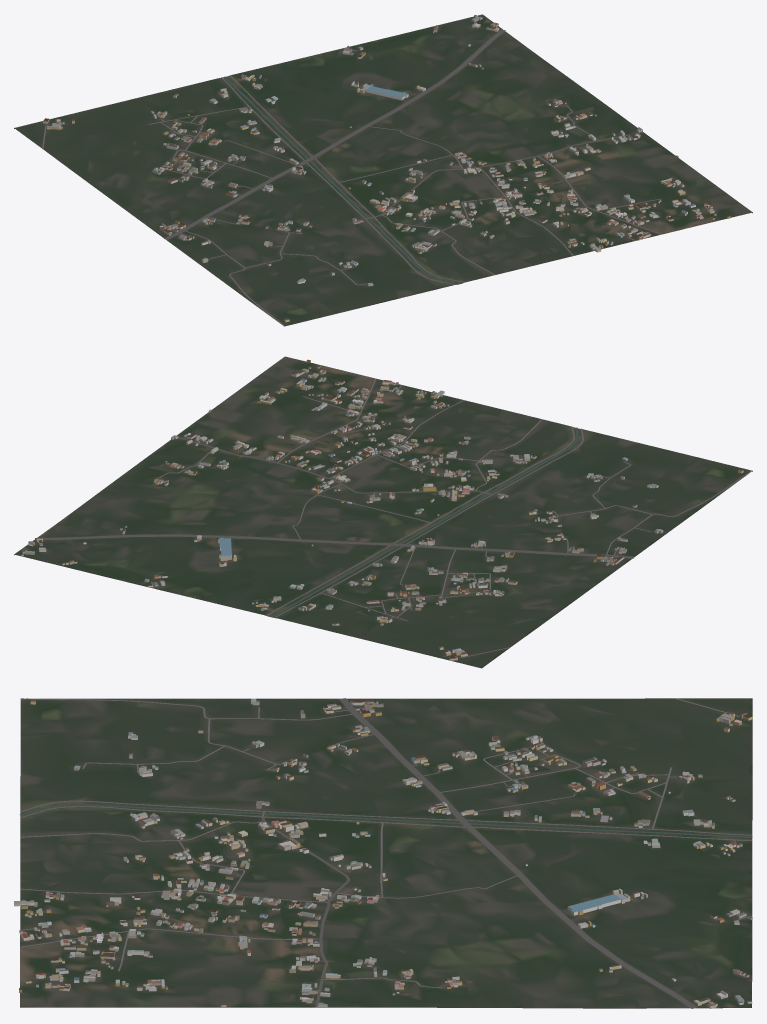
3 renders of one model, top to bottom at view 1: azimuth 30°, elevation 25°; view 2: azimuth 150°, elevation 25°; view 3: azimuth 270°, elevation 25°, orthographic. The views are drawn at different scales.
Visible parts, largest first — view 1: ground, buildings, roads, water; view 2: ground, buildings, roads, water; view 3: ground, buildings, roads, water.
Part boxes in pixels (<box>): ground: <box>14,14,752,326</box>; buildings: <box>42,15,730,322</box>; roads: <box>42,24,661,326</box>; water: <box>224,76,461,283</box>; ground: <box>14,356,752,668</box>; buildings: <box>21,359,743,660</box>; roads: <box>35,378,752,658</box>; water: <box>271,427,578,617</box>; ground: <box>20,698,752,1008</box>; buildings: <box>14,698,752,1008</box>; roads: <box>20,698,752,1008</box>; water: <box>19,804,752,838</box>.
Bounding box in the file's own units: 1406 × 14.69 × 1414.
